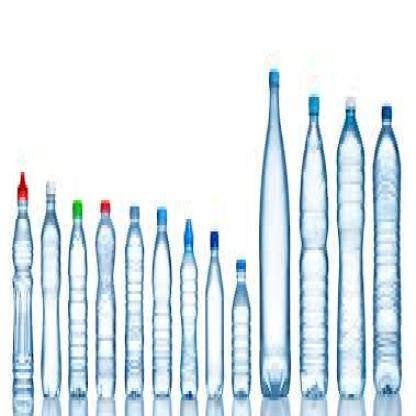Plastic: (258, 64, 290, 396), (333, 89, 367, 399), (370, 86, 403, 396), (300, 83, 327, 402), (11, 160, 33, 406), (92, 190, 117, 400), (40, 169, 62, 407), (120, 192, 142, 402), (149, 194, 170, 407), (67, 188, 88, 400), (178, 208, 200, 402), (205, 222, 222, 404), (230, 244, 251, 391)
